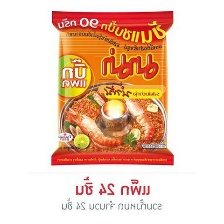snack: (44, 3, 183, 173)
